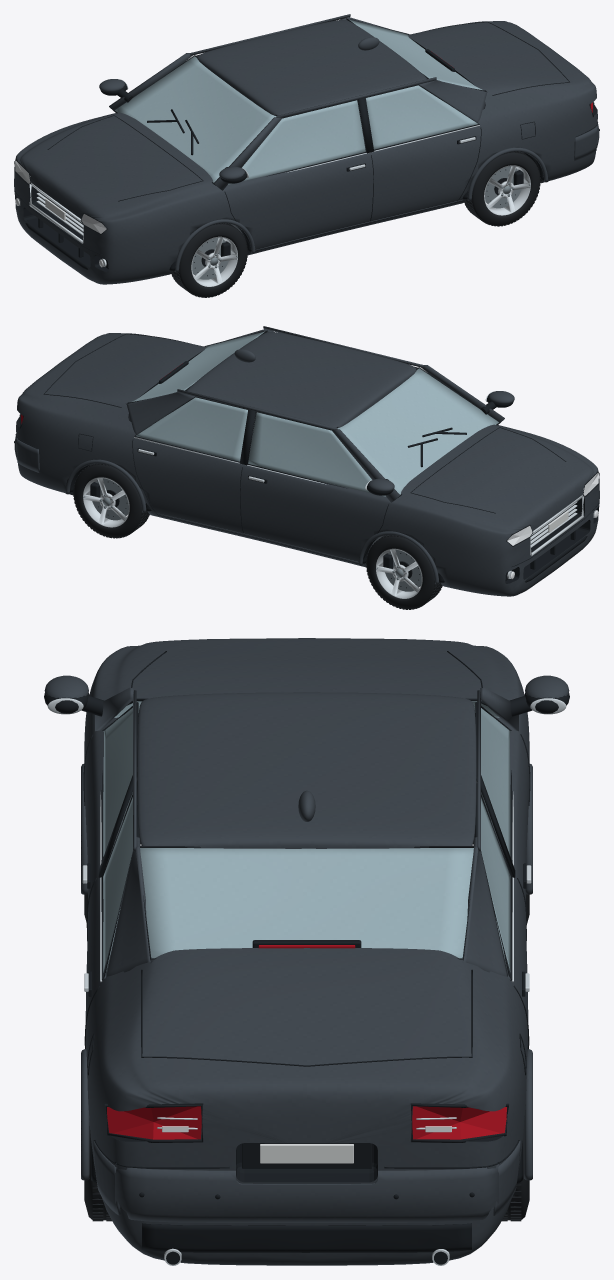
Rendered from SM_CC0_ModernSedan.fbx.
3 renders of one model, top to bottom at view 1: azimuth 30°, elevation 25°; view 2: azimuth 150°, elevation 25°; view 3: azimuth 270°, elevation 25°, orthographic. The views are drawn at different scales.
Visible parts, largest first — view 1: 107 reused Alloy_five_spoke_rim; view 2: 107 reused Alloy_five_spoke_rim; view 3: 107 reused Alloy_five_spoke_rim.
Part boxes in pixels (x1,y1,x2,y2): 107 reused Alloy_five_spoke_rim: [14, 14, 599, 297]; 107 reused Alloy_five_spoke_rim: [14, 326, 599, 609]; 107 reused Alloy_five_spoke_rim: [44, 638, 569, 1265].
Size of the model in its own units: 484 by 218 by 155.
